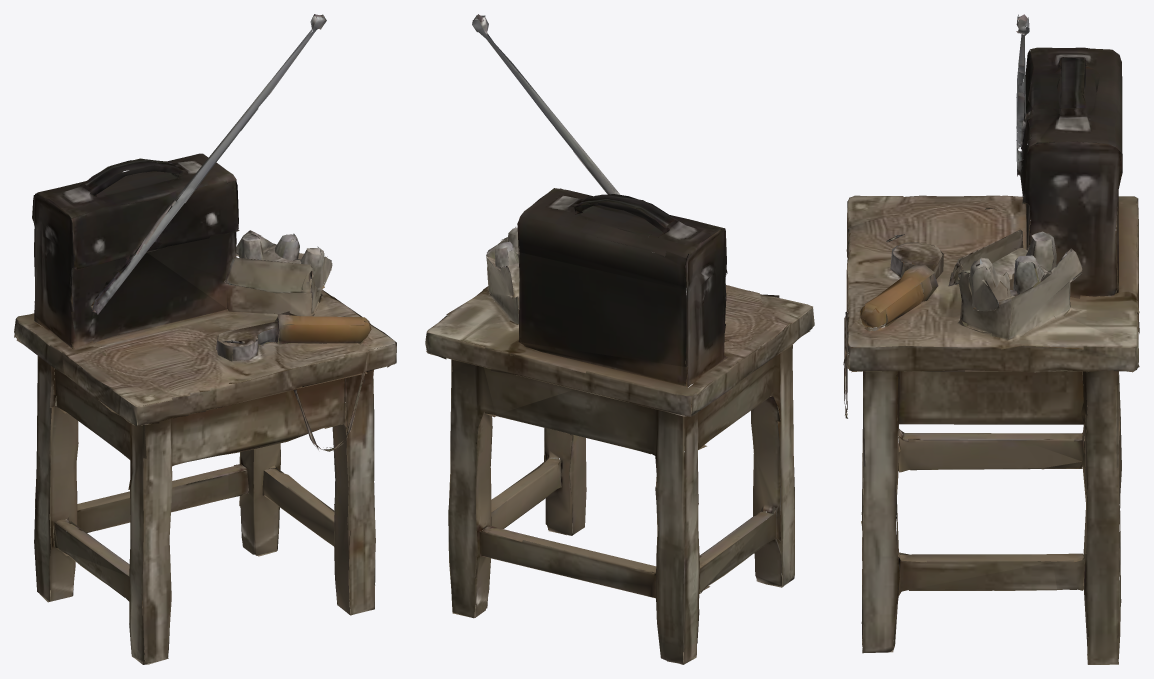
File: basement_radio.glb
3 renders of one model, left to right at view 1: azimuth 30°, elevation 25°; view 2: azimuth 150°, elevation 25°; view 3: azimuth 270°, elevation 25°, orthographic. The views are drawn at different scales.
Parts seen in each view (by area): view 1: lair_radio; view 2: lair_radio; view 3: lair_radio.
Part boxes in pixels (x1,y1,x2,y2): lair_radio: [14, 14, 396, 664]; lair_radio: [425, 14, 814, 664]; lair_radio: [843, 14, 1139, 664].
Size of the model in its own units: 0.6 by 1.2 by 0.4913.
Materials: 1 (1 with a texture image).
